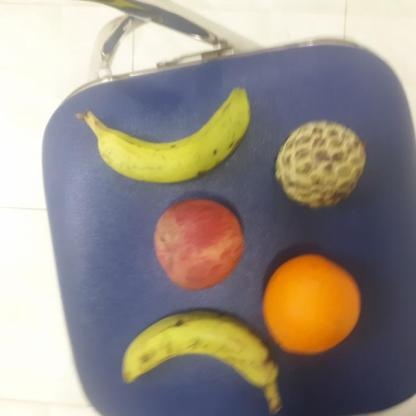annona: (269, 115, 368, 209)
apple: (150, 198, 248, 292)
banana: (80, 88, 254, 186), (118, 306, 282, 388)
orange: (257, 252, 365, 354)
